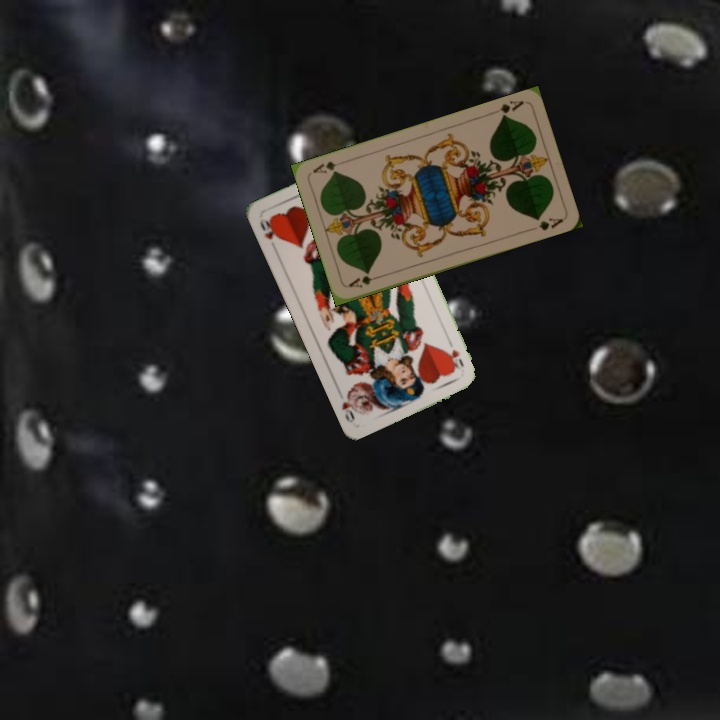GA: (495, 96, 527, 121), (345, 271, 384, 290)
HO: (256, 214, 282, 243), (443, 345, 466, 372)
